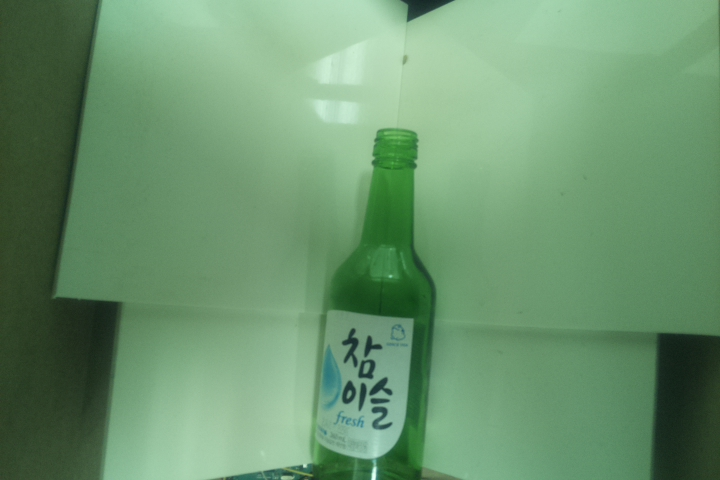soju: (308, 124, 439, 479)
